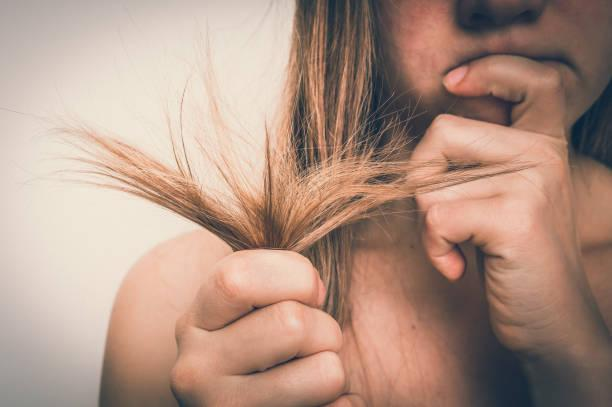dry hair: (327, 116, 389, 194)
